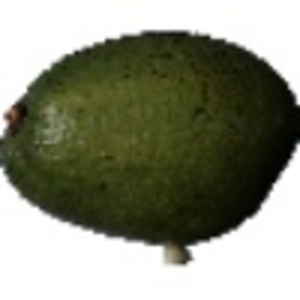abacate: (1, 28, 300, 245)
